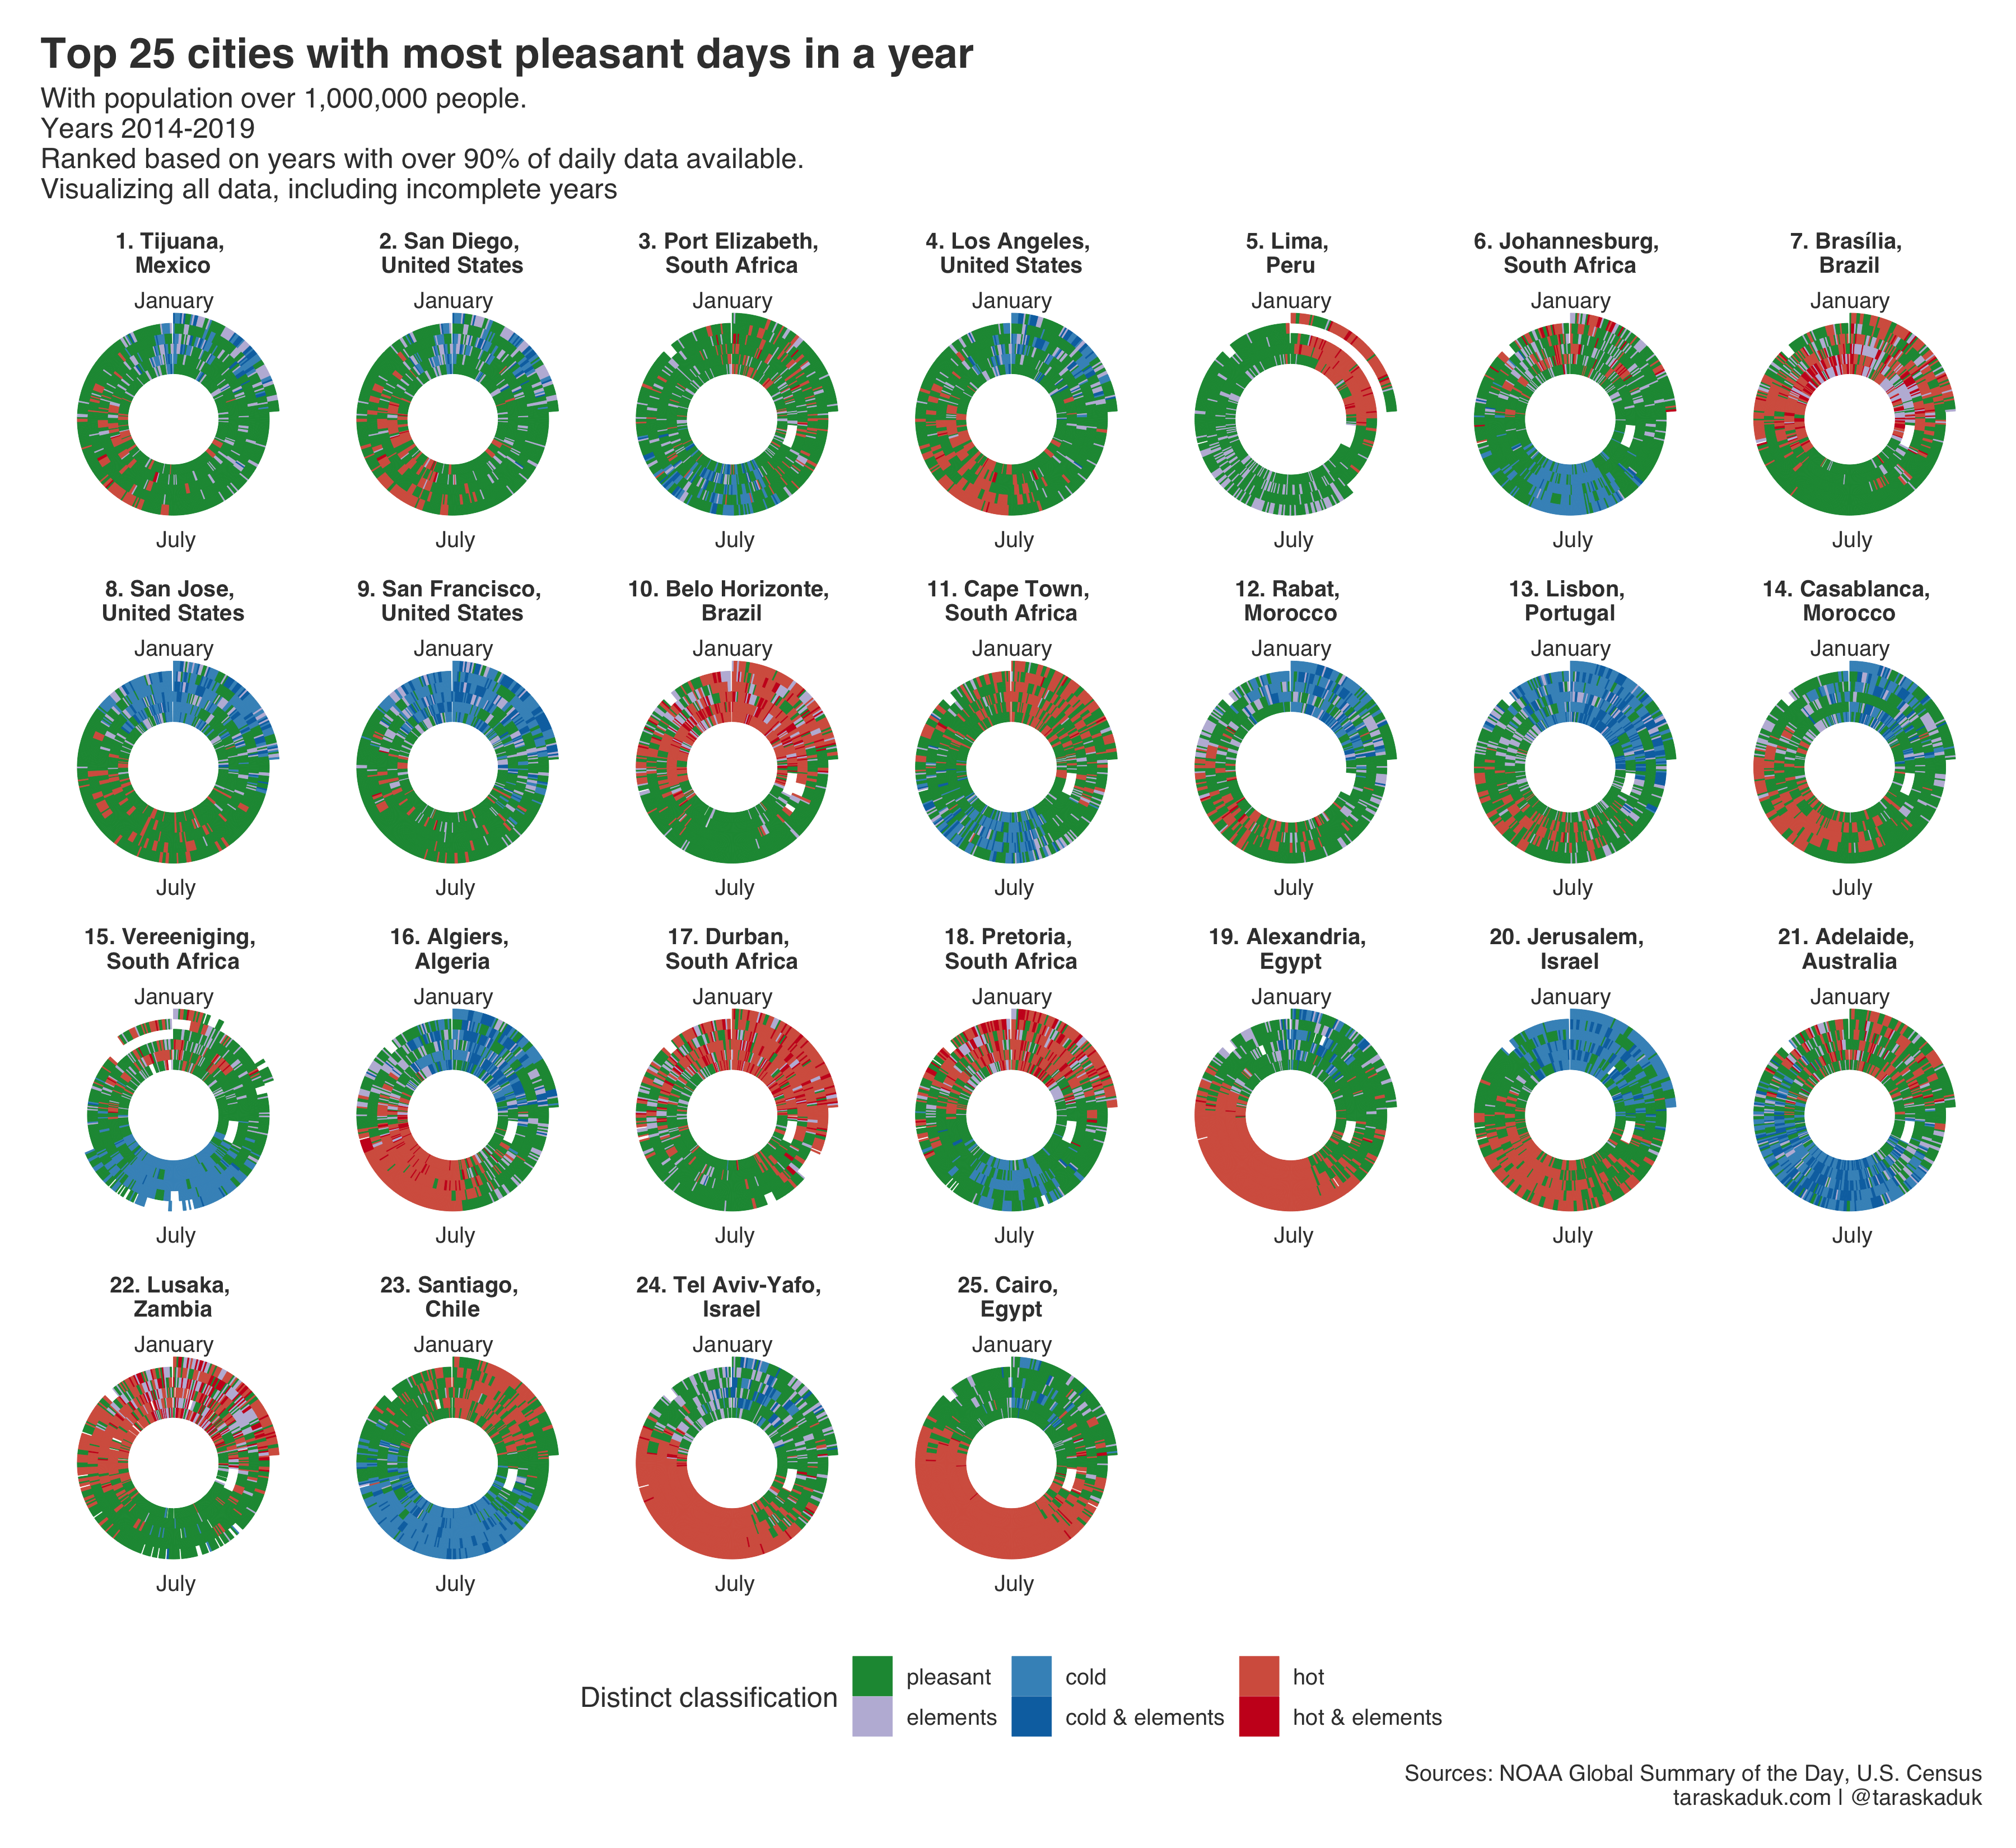

The dashboard page shown, as its layout file describes it:
{"tool":"tableau","page":{"name":"Radial Stack Bar Charts","canvas":[900,800],"ordinal":0},"visuals":[{"type":"worksheet","title":"radial stacked bar","mark":"Polygon","box":[0,0,796,800]},{"type":"legend","title":"radial stacked bar","param":"[federated.0d4brrl0id6ggj1ffol9q0xiccq4].[none:Calculation_4518799278402621453:n","box":[796,0,104,90]},{"type":"parameter","param":"[Parameters].[Parameter 4]","box":[796,90,104,52]},{"type":"parameter","param":"[Parameters].[Parameter 1]","box":[796,142,104,52]},{"type":"parameter","param":"[Parameters].[Parameter 2]","box":[796,194,104,52]},{"type":"parameter","param":"[Parameters].[Parameter 3]","box":[796,246,104,52]},{"type":"worksheet","title":"social","mark":"Shape","cols":["Platform"],"box":[840,770,60,30]}]}

Visuals, with their boxes on the page's 900x800 design canvas (x1, y1, x2, y2). These are canvas units, not pixel positions in the 2016x1848 screenshot, which may show the page scaled, cropped or inside an application window:
"radial stacked bar" worksheet (Polygon marks): 0 0 796 800
"radial stacked bar" legend: 796 0 900 90
parameter: 796 90 900 142
parameter: 796 142 900 194
parameter: 796 194 900 246
parameter: 796 246 900 298
"social" worksheet (Shape marks): 840 770 900 800
